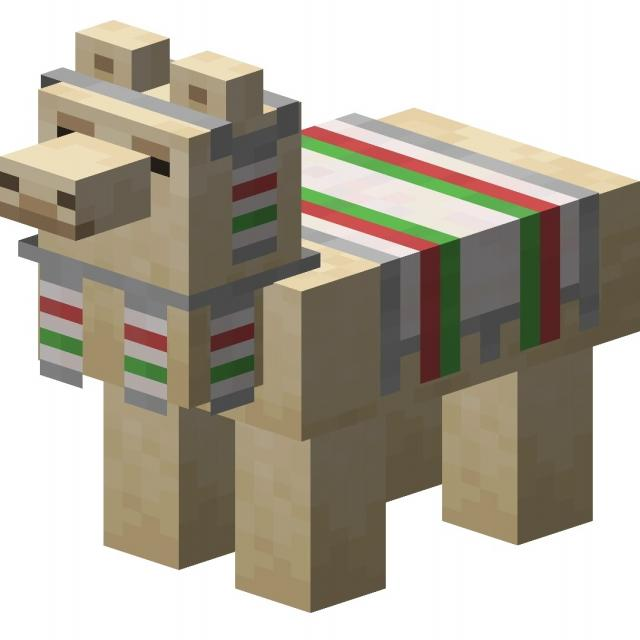Trader Lama: (1, 16, 640, 613)
